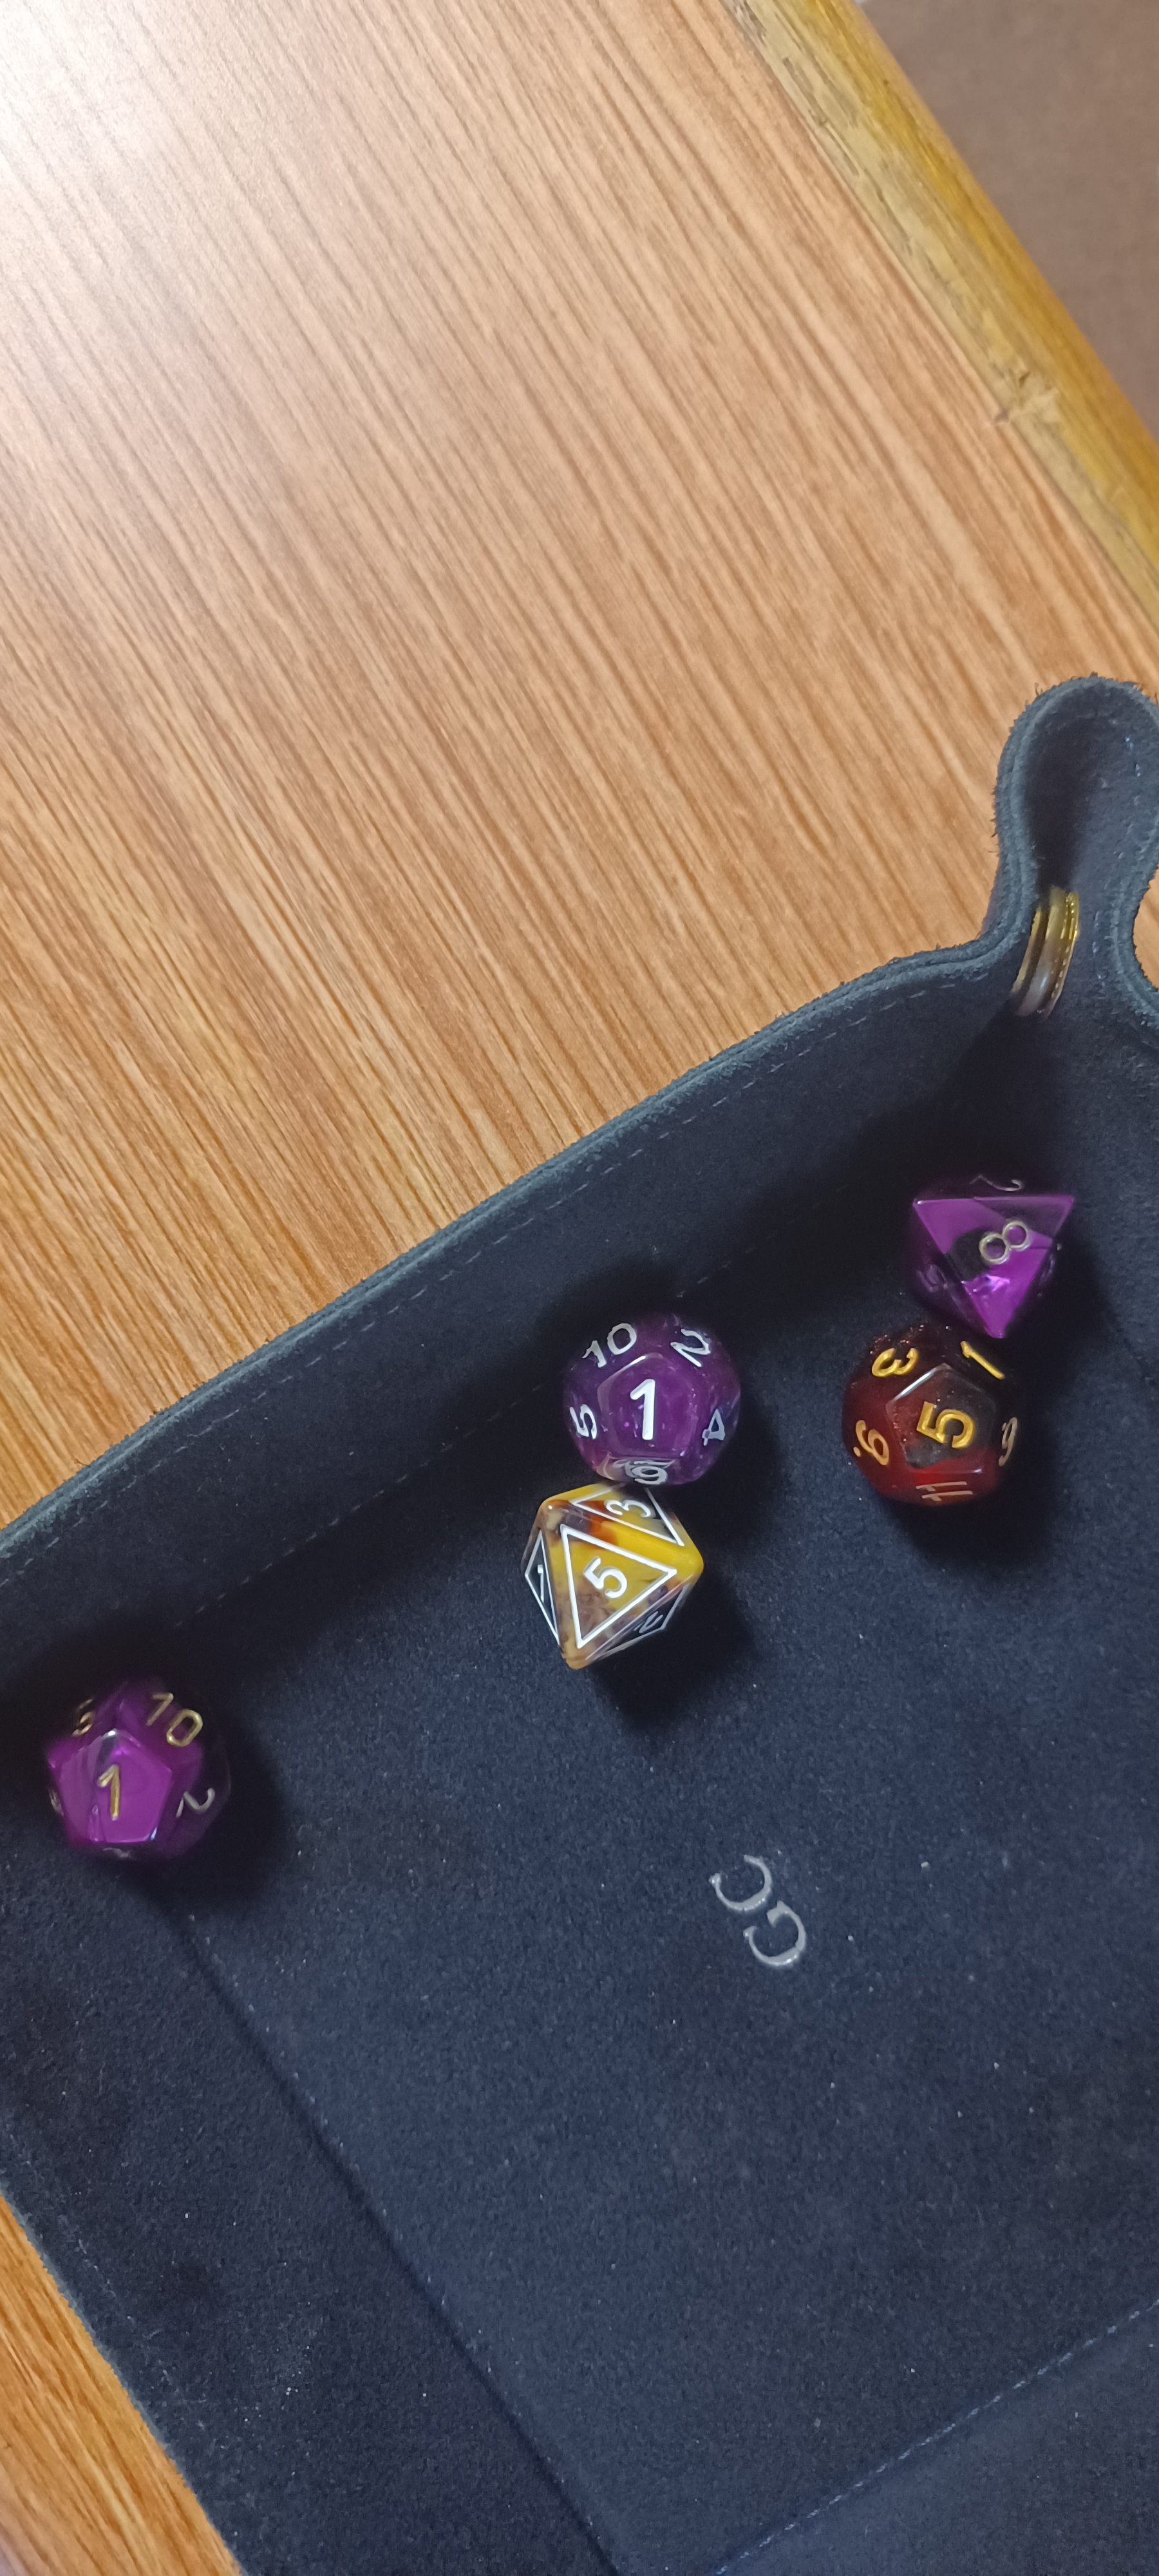eight: (867, 1138, 1102, 1360)
five: (479, 1447, 732, 1710), (821, 1321, 1057, 1503)
one: (23, 1658, 269, 1889), (534, 1280, 776, 1503)
